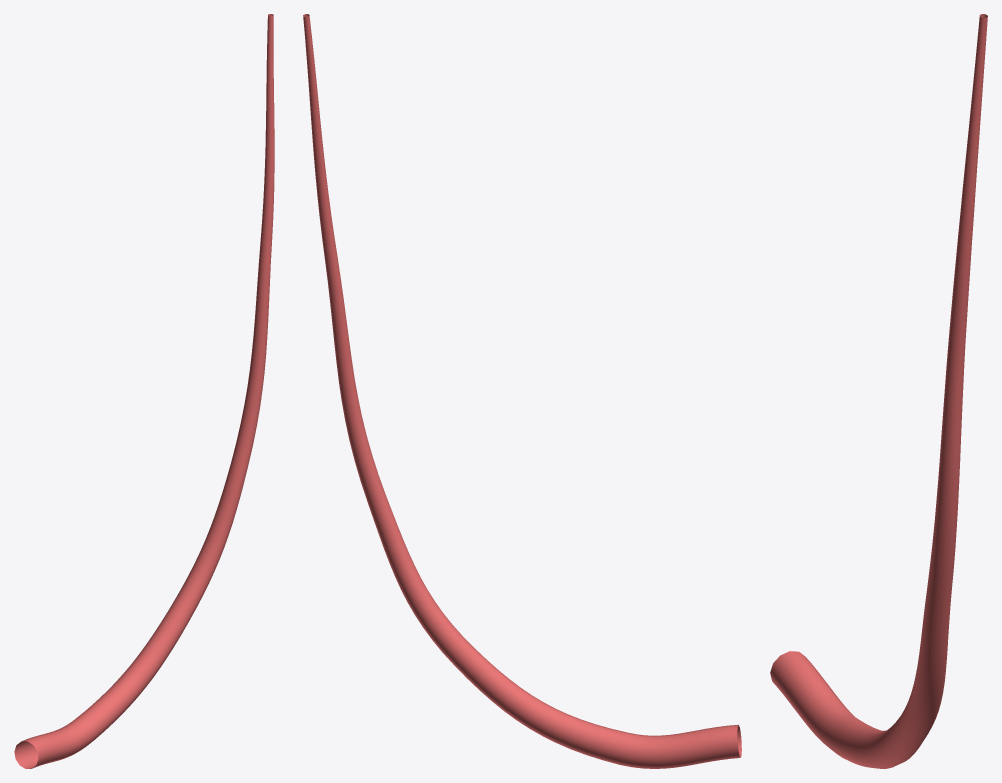
File: Middle_meningeal_artery.r.001_BezierCurve.097.glb
3 renders of one model, left to right at view 1: azimuth 30°, elevation 25°; view 2: azimuth 150°, elevation 25°; view 3: azimuth 270°, elevation 25°, orthographic. The views are drawn at different scales.
Visible parts, largest first — view 1: Middle_meningeal_artery.r.001_BezierCurve.097; view 2: Middle_meningeal_artery.r.001_BezierCurve.097; view 3: Middle_meningeal_artery.r.001_BezierCurve.097.
Part boxes in pixels (<box>): Middle_meningeal_artery.r.001_BezierCurve.097: <box>14,14,274,768</box>; Middle_meningeal_artery.r.001_BezierCurve.097: <box>303,14,741,768</box>; Middle_meningeal_artery.r.001_BezierCurve.097: <box>770,14,987,768</box>.
Size of the model in its own units: 0.0126 by 0.024 by 0.00522.
